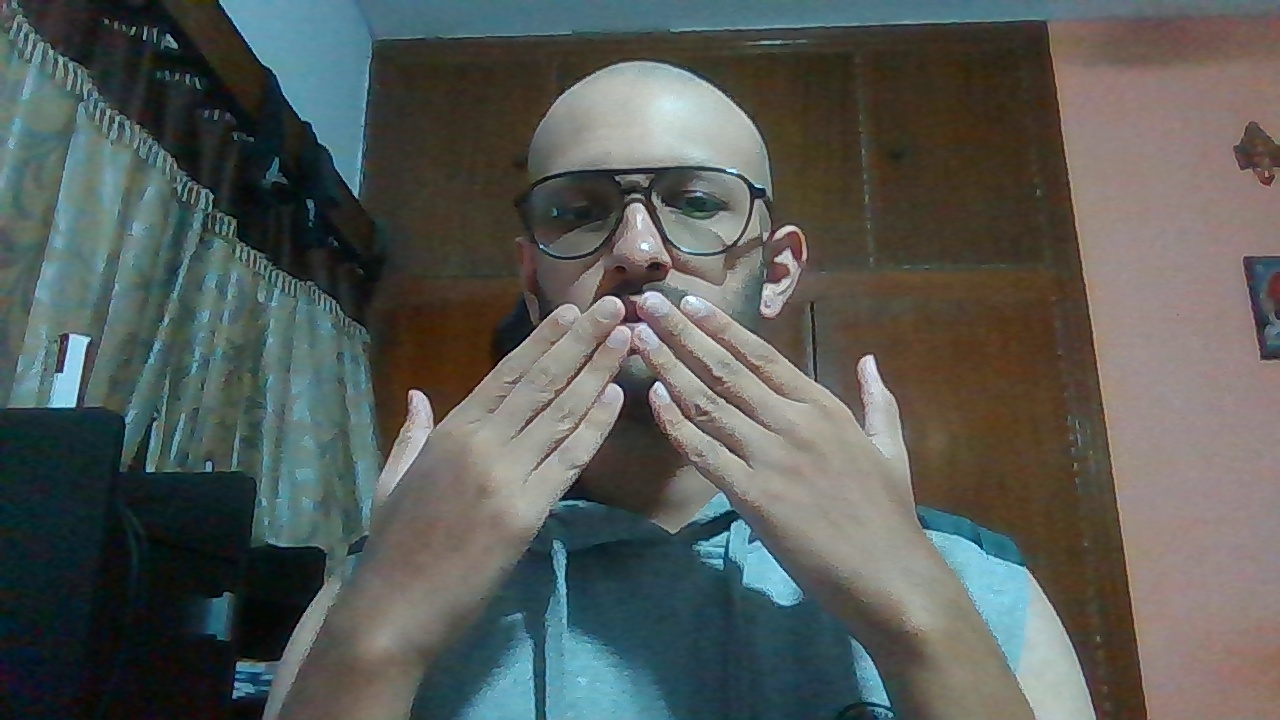Thank You: (362, 293, 971, 566)
